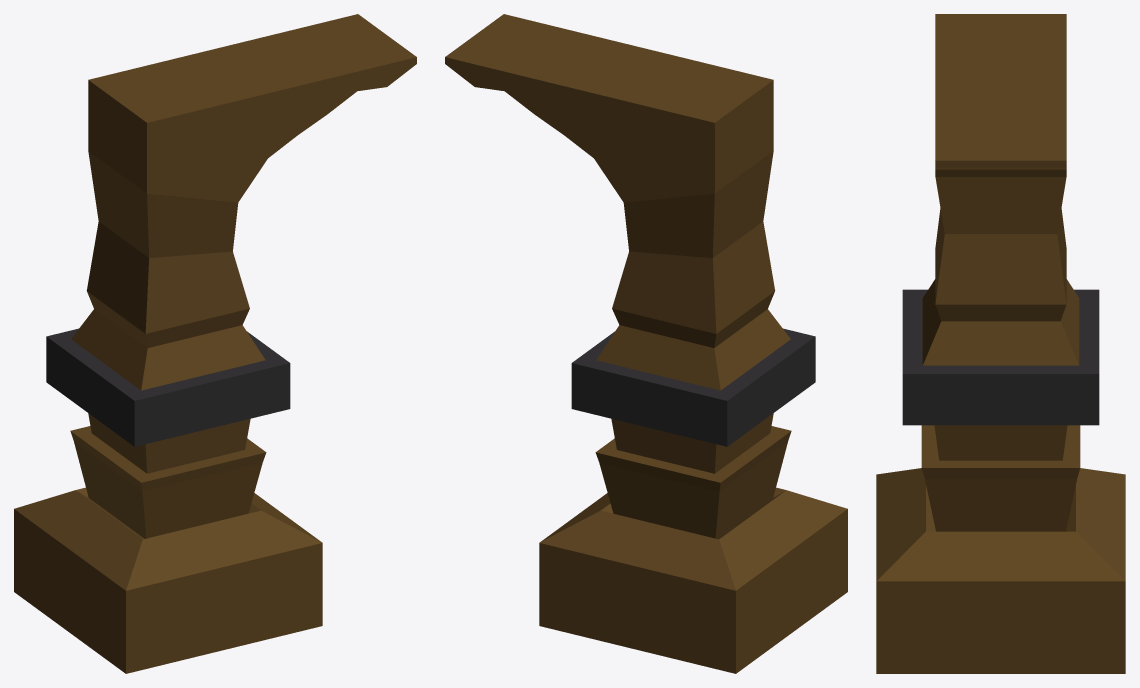
Rendered from wall seprator.fbx.
3 views of the same model, side by side, from view 1: azimuth 30°, elevation 25°; view 2: azimuth 150°, elevation 25°; view 3: azimuth 270°, elevation 25° (orthographic). The views are drawn at different scales.
Parts seen in each view (by area): view 1: Cube; view 2: Cube; view 3: Cube.
Part boxes in pixels (<box>): Cube: <box>14,14,416,673</box>; Cube: <box>445,14,847,673</box>; Cube: <box>876,14,1125,673</box>.
Size of the model in its own units: 319 by 500 by 195.
